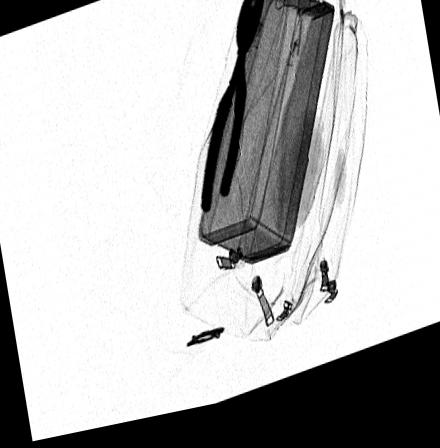Pliers: (199, 0, 264, 227)
